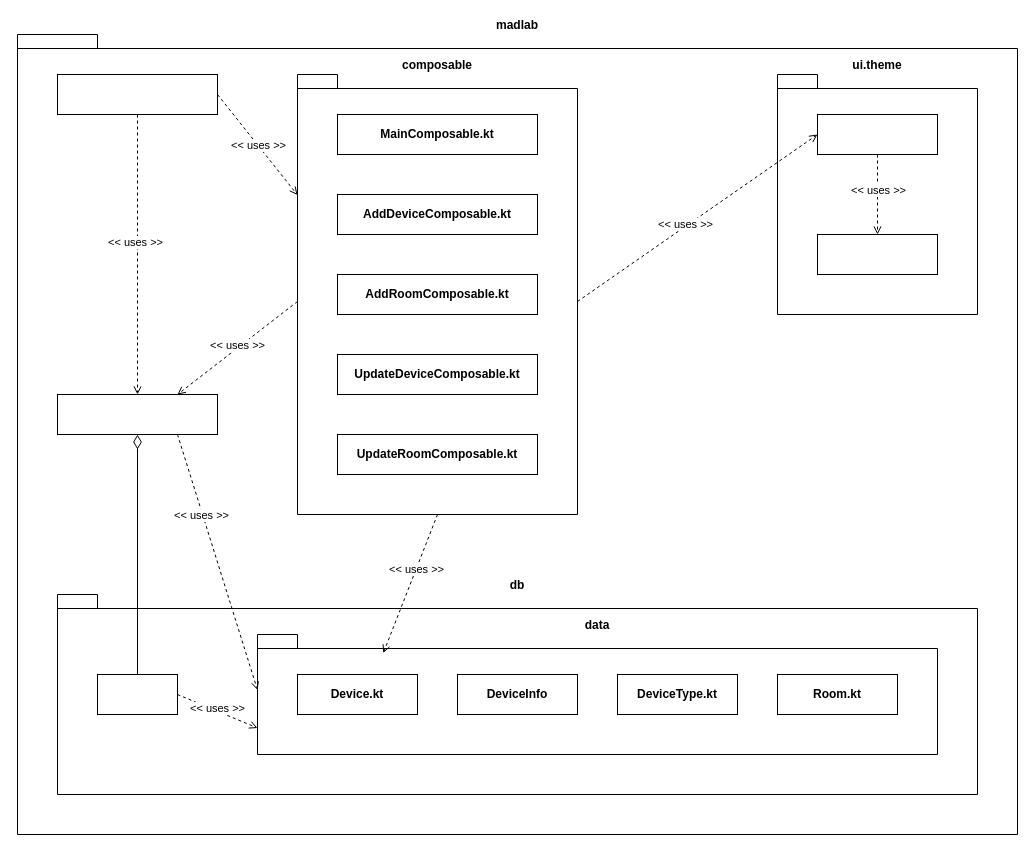
The diagram is 1035 pixels wide and 852 high, and some of its shapes have lost their labels. The shapes that lost their labels are listed below. From the top down, each one's centre as x and y in pixels, then its label:
At [137,94]: "MainActivity".
At [877,134]: "Theme.kt".
At [877,254]: "Type.kt".
At [137,414]: "AppViewModel".
At [137,694]: "AppDB".
